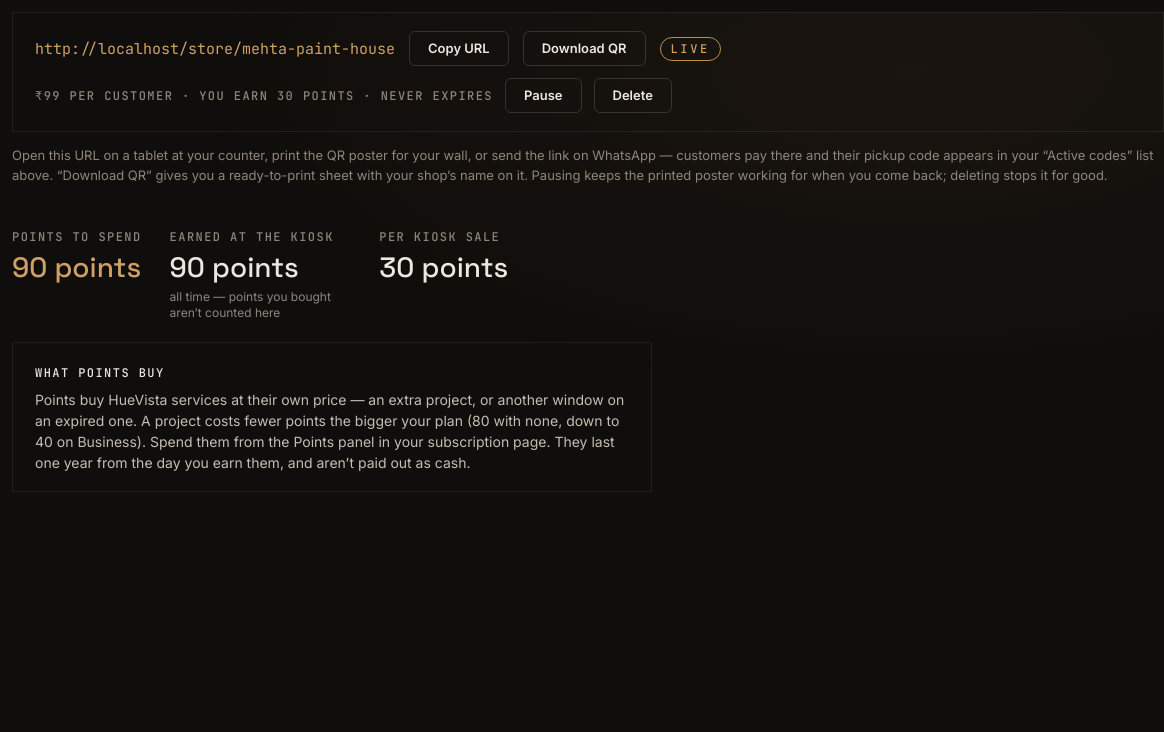
Test: StoreKioskPanel — QR poster › says so when the poster cannot be drawn, and downloads nothing
Step 1. Click the button "Download QR" → (584, 48), box [523,31,646,66]
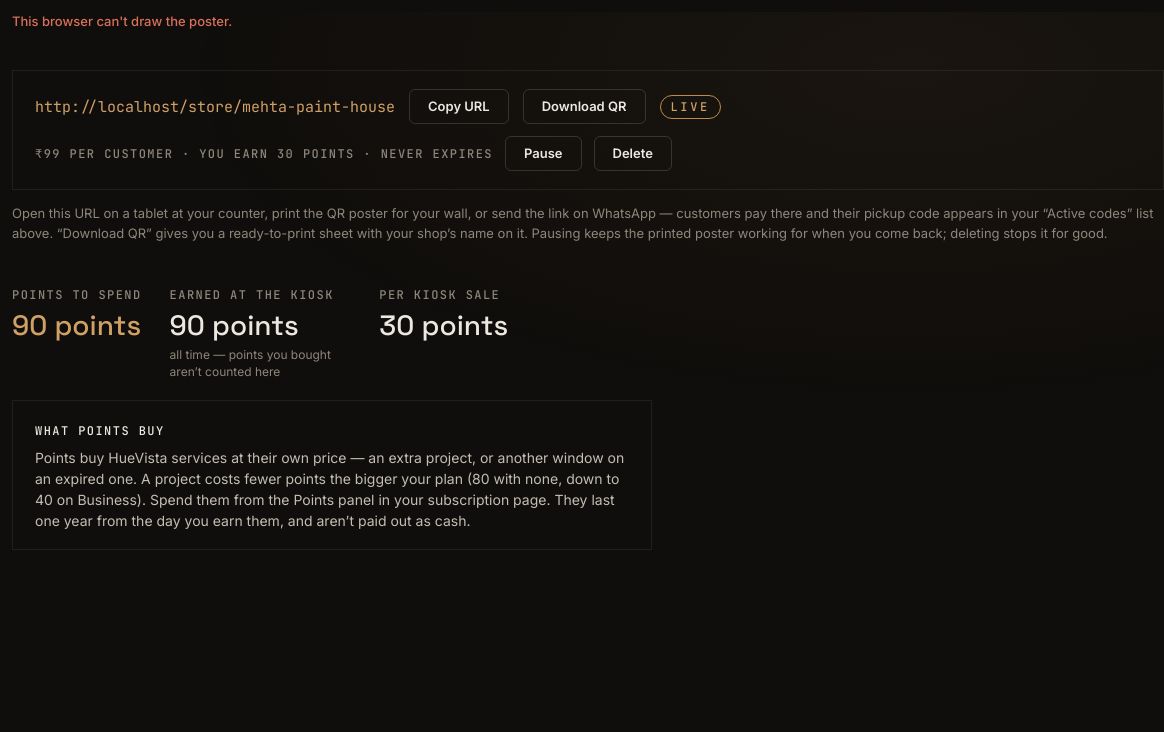
Expected: the button "Download QR" is enabled, [523,89,646,124]
Now the message reads "This browser can't draw the poster.", box [12,13,232,29]
